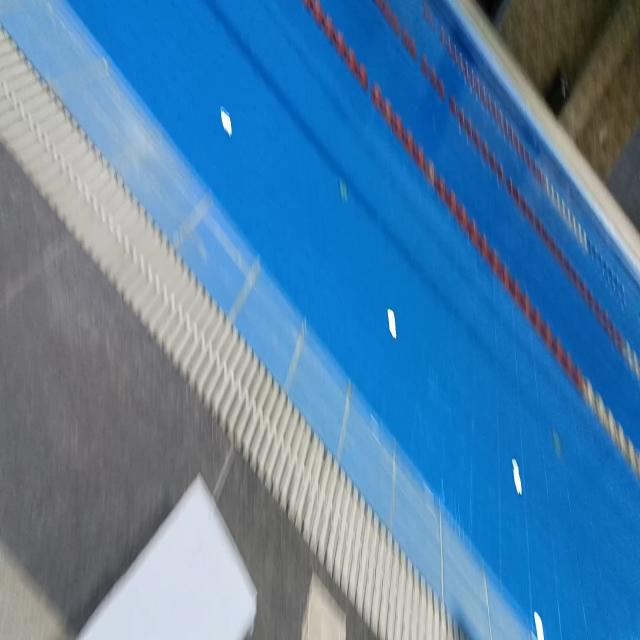Cuboid: (77, 470, 258, 638)
